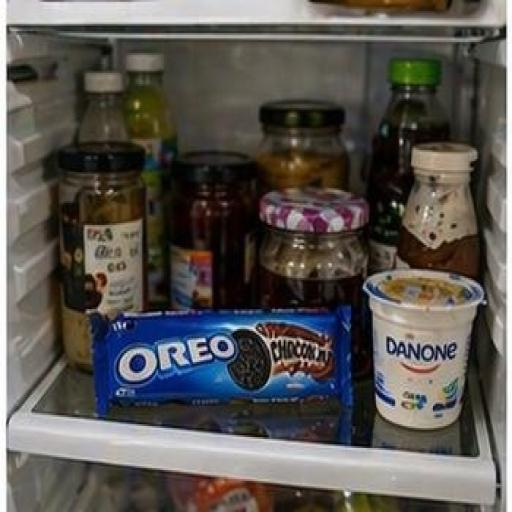oreo: (71, 251, 408, 442)
